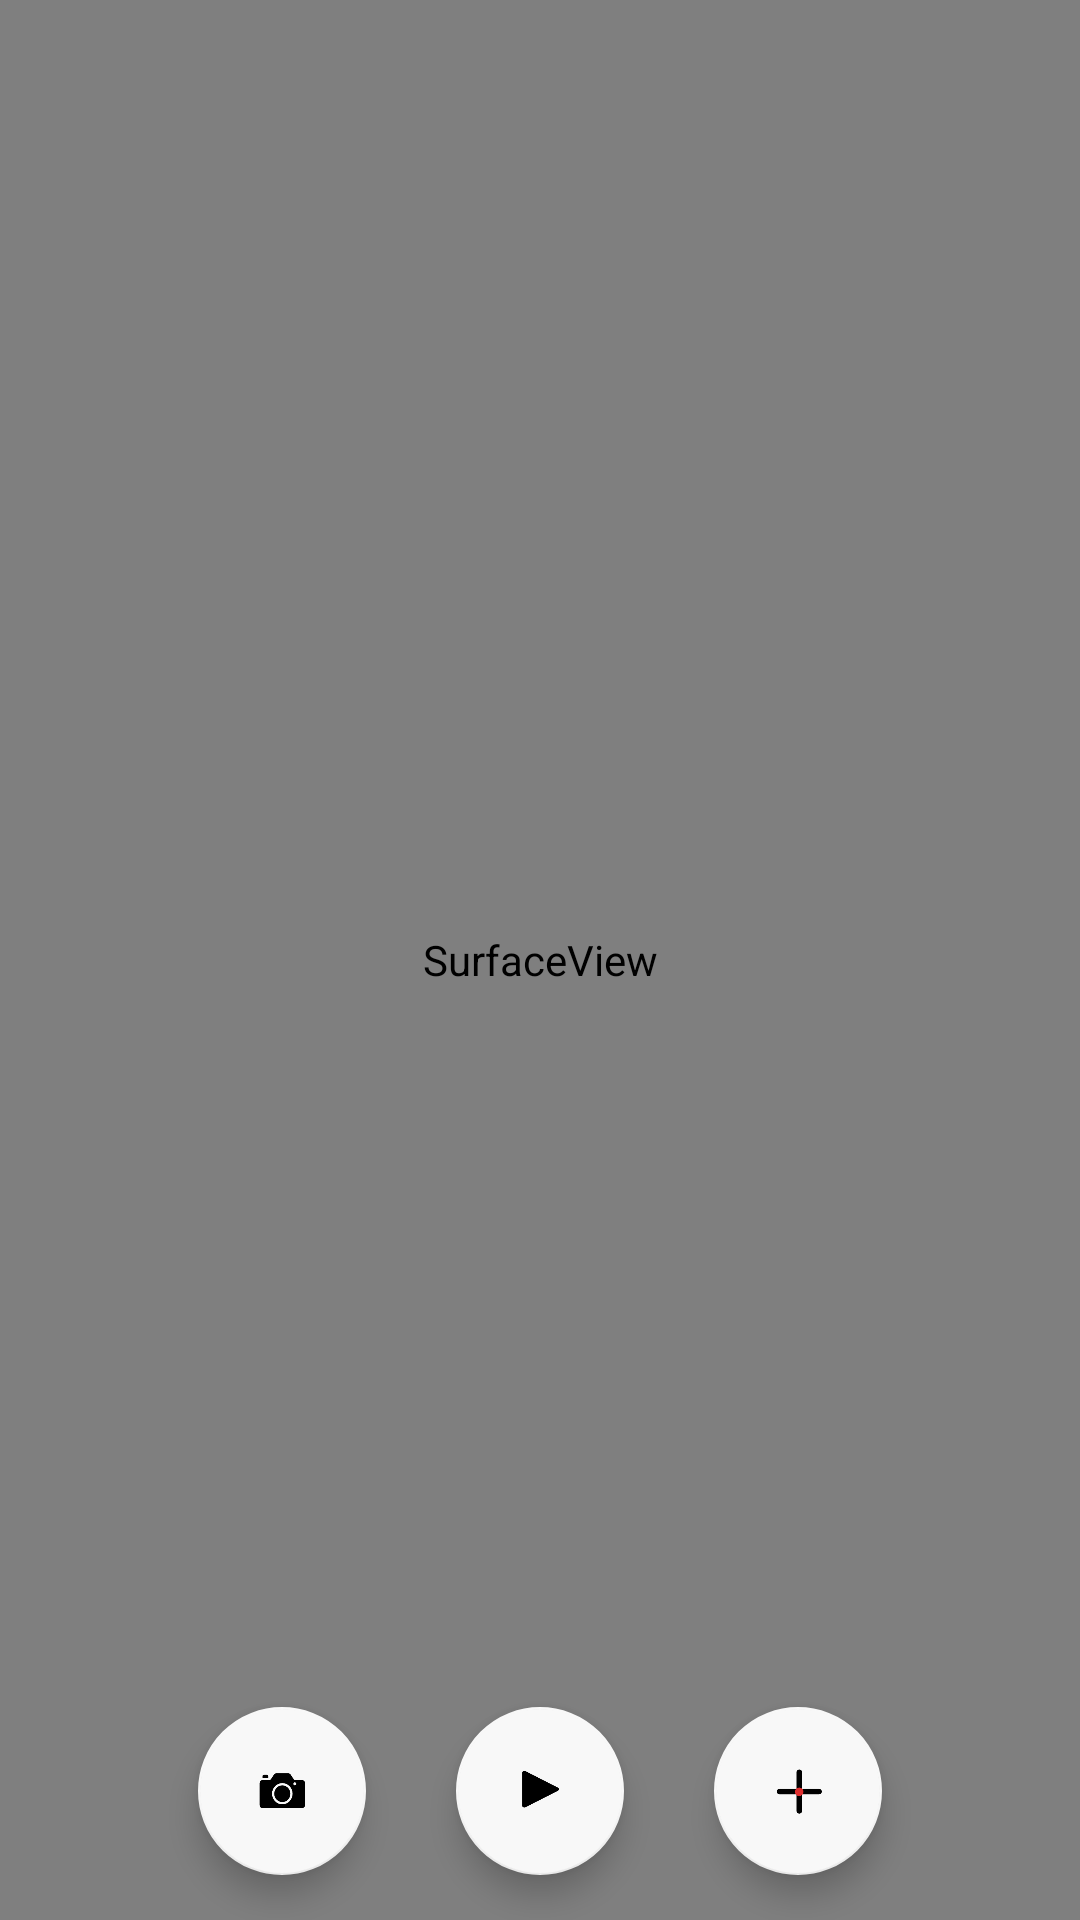

Point at icon controls on the screen. Image size 1080×1920, points as (x=x, y=y).
camera: (x=282, y=1791)
focus: (x=798, y=1791)
start: (x=540, y=1791)
